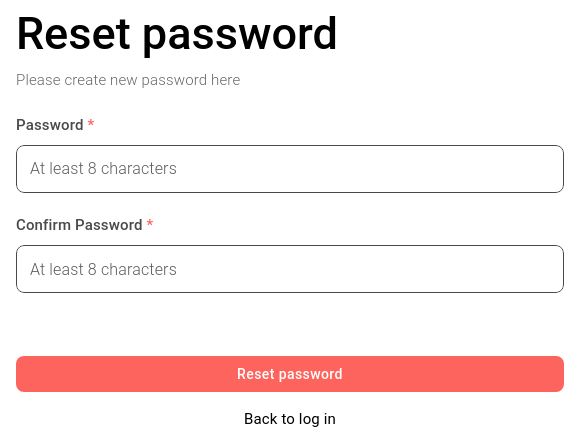
Test: Reset Password Page › shows an error message on network failure
The image size is (581, 444).
In the password field labelled "Password": (290, 169) [16,141,564,197], type "123456123456"
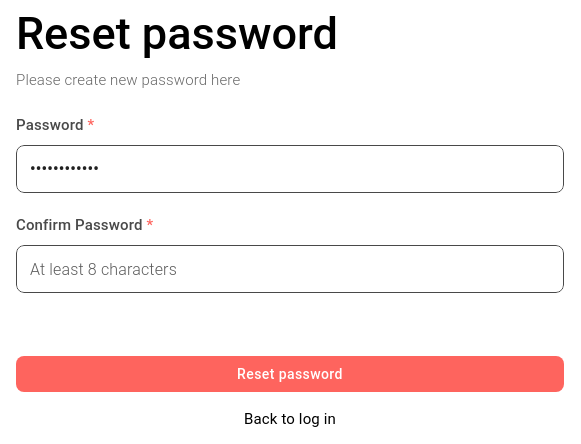
In the password field labelled "Confirm Password": (290, 269) [16,241,564,297], type "123456123456"
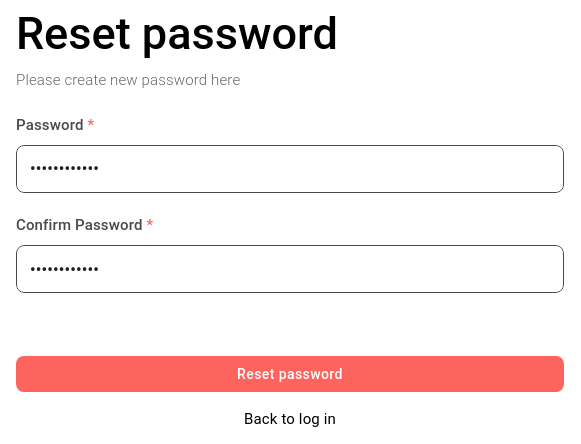
Click the button "Reset password": (290, 374) [16,356,564,392]
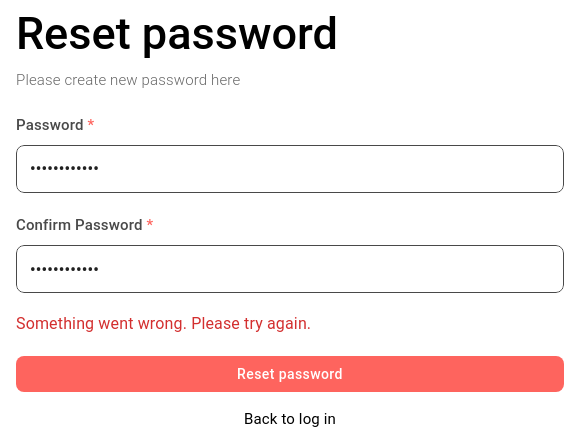
Expected: the text "Something went wrong. Please try again." is shown, [16,316,311,332]
